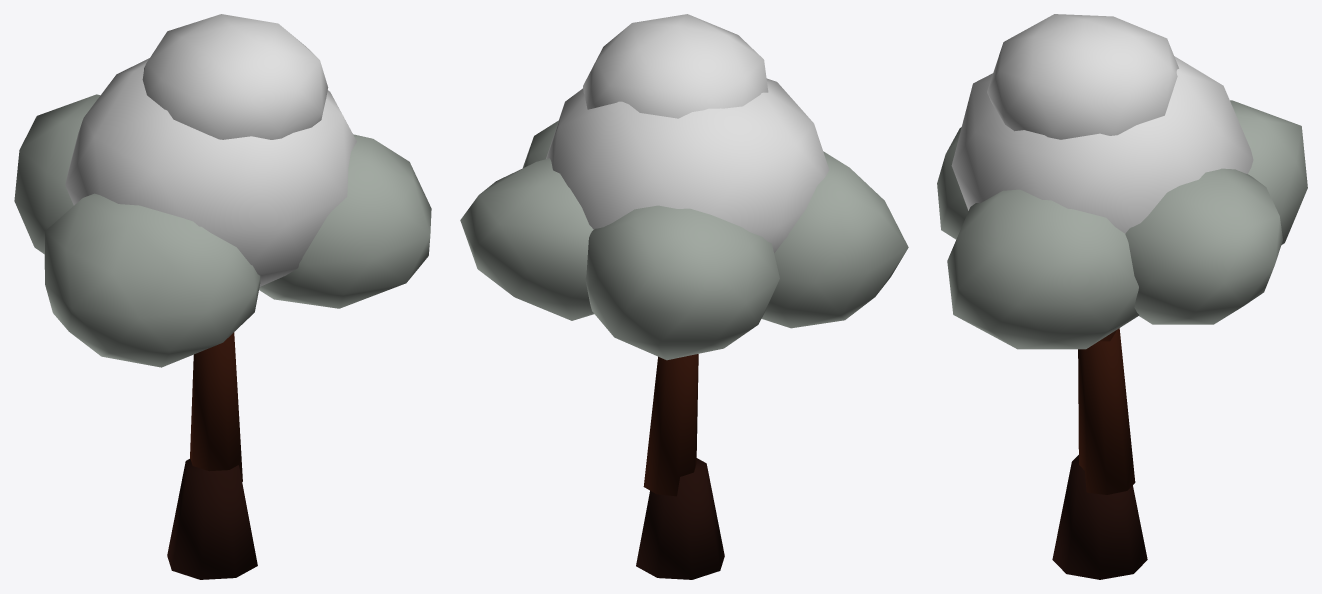
The model's file is earth_tree_round.glb.
3 renders of one model, left to right at view 1: azimuth 30°, elevation 25°; view 2: azimuth 150°, elevation 25°; view 3: azimuth 270°, elevation 25°, orthographic. The views are drawn at different scales.
Visible parts, largest first — view 1: TreeCanopy, TreeTrunk; view 2: TreeCanopy, TreeTrunk; view 3: TreeCanopy, TreeTrunk.
Part boxes in pixels (x1,y1,x2,y2): TreeCanopy: (14, 14, 431, 367); TreeTrunk: (167, 332, 257, 579); TreeCanopy: (460, 14, 908, 360); TreeTrunk: (636, 354, 724, 579); TreeCanopy: (937, 14, 1307, 349); TreeTrunk: (1052, 328, 1147, 579).
Bounding box in the file's own units: 3.95 × 5.56 × 3.42.
